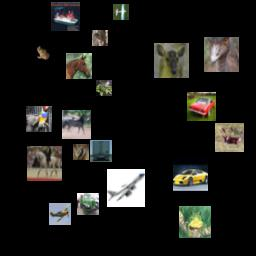airplane: (107, 169, 145, 207), (49, 203, 71, 225), (113, 4, 129, 20)
automobile: (173, 156, 208, 191), (187, 92, 216, 121)
bird: (204, 37, 239, 72), (26, 106, 52, 132), (92, 30, 108, 46), (96, 80, 112, 96)
cat: (73, 144, 89, 160)
deer: (154, 43, 189, 78), (215, 123, 244, 152)
frog: (179, 206, 211, 238), (35, 44, 51, 60)
ship: (51, 2, 80, 31)
truck: (77, 193, 99, 215), (90, 140, 112, 162)
